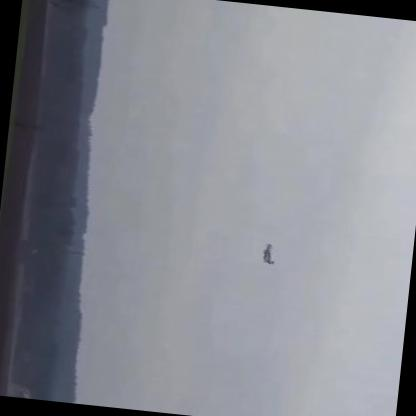plane: (258, 242, 274, 265)
